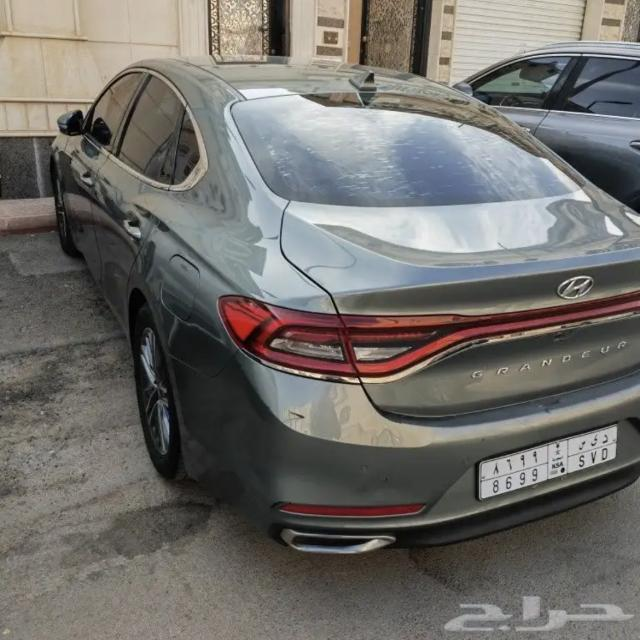license_plate: (479, 426, 622, 500)
